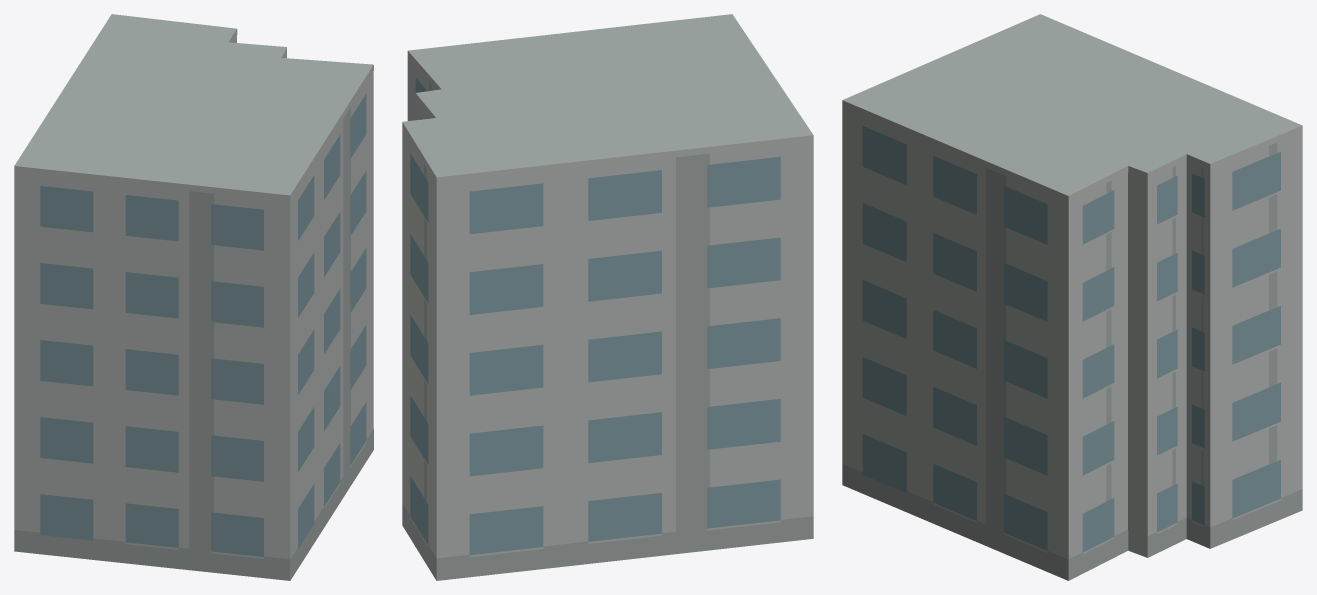
File: survey-upis-32930307.glb
3 renders of one model, left to right at view 1: azimuth 30°, elevation 25°; view 2: azimuth 150°, elevation 25°; view 3: azimuth 270°, elevation 25°, orthographic. The views are drawn at different scales.
Visible parts, largest first — view 1: survey-upis-32930307.tmp; view 2: survey-upis-32930307.tmp; view 3: survey-upis-32930307.tmp.
Boxes of the visible parts, x1=… form: survey-upis-32930307.tmp: x1=14, y1=14, x2=373, y2=580; survey-upis-32930307.tmp: x1=402, y1=14, x2=813, y2=580; survey-upis-32930307.tmp: x1=842, y1=14, x2=1302, y2=580.
Bounding box in the file's own units: 14.71 × 14.5 × 15.73.
